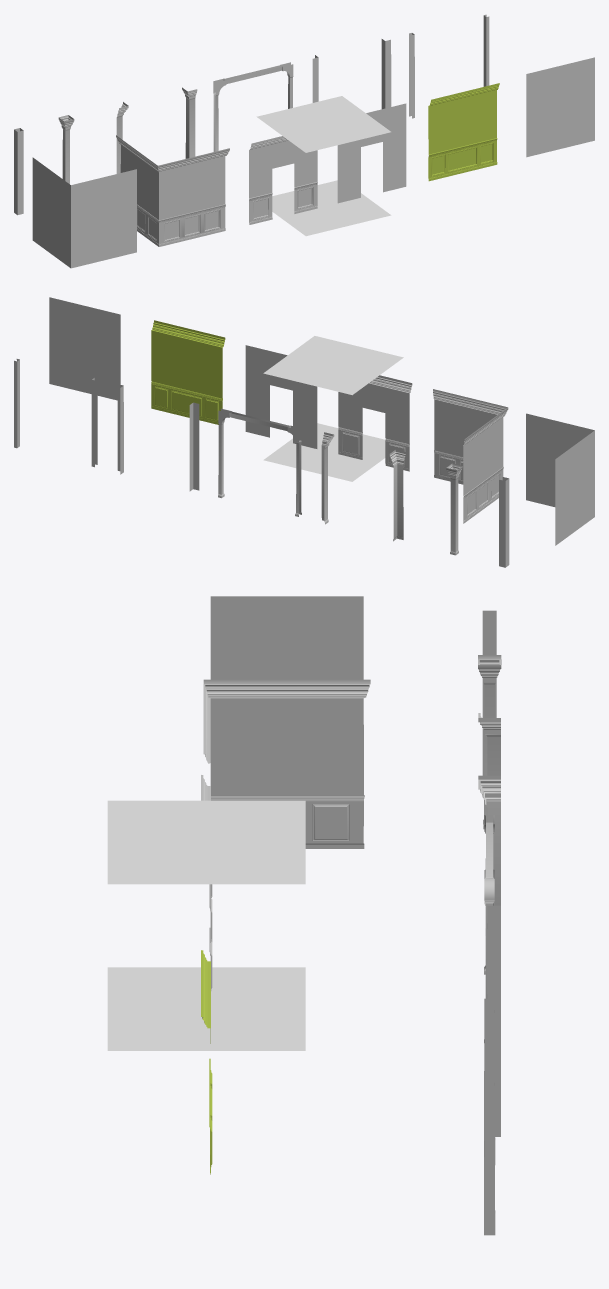
Rendered from Building.fbx.
3 renders of one model, top to bottom at view 1: azimuth 30°, elevation 25°; view 2: azimuth 150°, elevation 25°; view 3: azimuth 270°, elevation 25°, orthographic. The views are drawn at different scales.
Parts seen in each view (by area): view 1: Wall_90_B, Wall_90_A, Wall_Simple, Wall, Ceiling, Wall_with_Door, Wall_with_Door_Simple, Floor, Wall_Corner_2, Wall_Corner_1, Wall_Corner_3, Wall_Corner_4 (+2 smaller); view 2: Wall_90_B, Wall_90_A, Wall, Wall_Simple, Ceiling, Wall_with_Door, Wall_with_Door_Simple, Floor, Wall_Corner_1, Wall_Corner_2, Wall_Corner_3, Wall_Corner_4 (+2 smaller); view 3: Wall_90_A, Ceiling, Floor, Wall_90_B, Wall_Corner_4, Wall_Corner_1, Wall_Corner_3, Wall_Corner_A, Wall, Wall_Corner_2, Wall_Corner_B.
Part boxes in pixels (x1,y1,x2,y2): Wall_90_B: (32,157,136,268); Wall_90_A: (116,135,229,246); Wall_Simple: (526,57,594,157); Wall: (428,83,499,181); Ceiling: (256,96,390,152); Wall_with_Door: (249,136,317,224); Wall_with_Door_Simple: (337,103,406,203); Floor: (272,180,391,236); Wall_Corner_2: (213,62,293,151); Wall_Corner_1: (116,87,197,173); Wall_Corner_3: (312,39,391,109); Wall_Corner_4: (409,14,489,118); Wall_90_B: (526,413,594,545); Wall_90_A: (433,389,508,523); Wall: (151,320,225,424); Wall_Simple: (49,297,120,400); Ceiling: (263,336,403,395); Wall_with_Door: (338,375,412,471); Wall_with_Door_Simple: (245,345,317,448); Floor: (263,423,385,481); Wall_Corner_1: (321,432,405,541); Wall_Corner_2: (218,408,301,516); Wall_Corner_3: (117,384,199,491); Wall_Corner_4: (14,359,97,467); Wall_90_A: (203,679,370,897); Ceiling: (107,800,305,884); Floor: (107,967,305,1050); Wall_90_B: (210,596,363,679); Wall_Corner_4: (484,998,495,1235); Wall_Corner_1: (478,713,500,905); Wall_Corner_3: (487,905,500,1136); Wall_Corner_A: (478,655,501,829); Wall: (201,950,212,1174); Wall_Corner_2: (484,815,494,1042); Wall_Corner_B: (482,610,496,775).
Size of the model in its own units: 2140 by 325 by 696.
